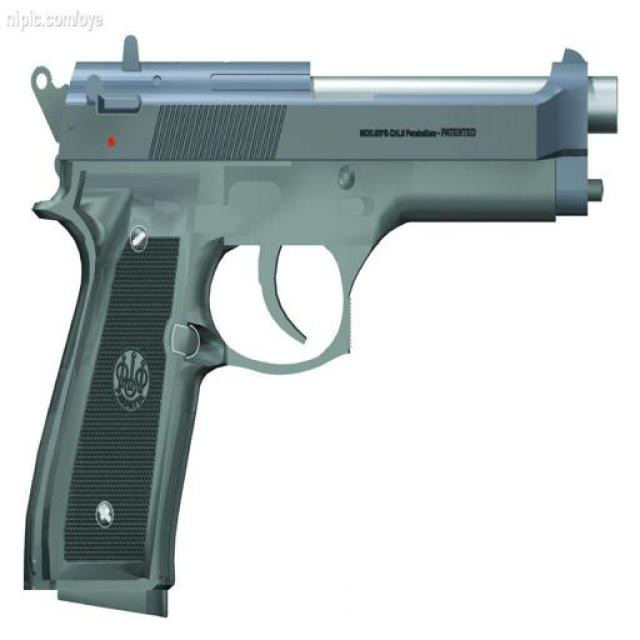pistol: (17, 36, 621, 618)
